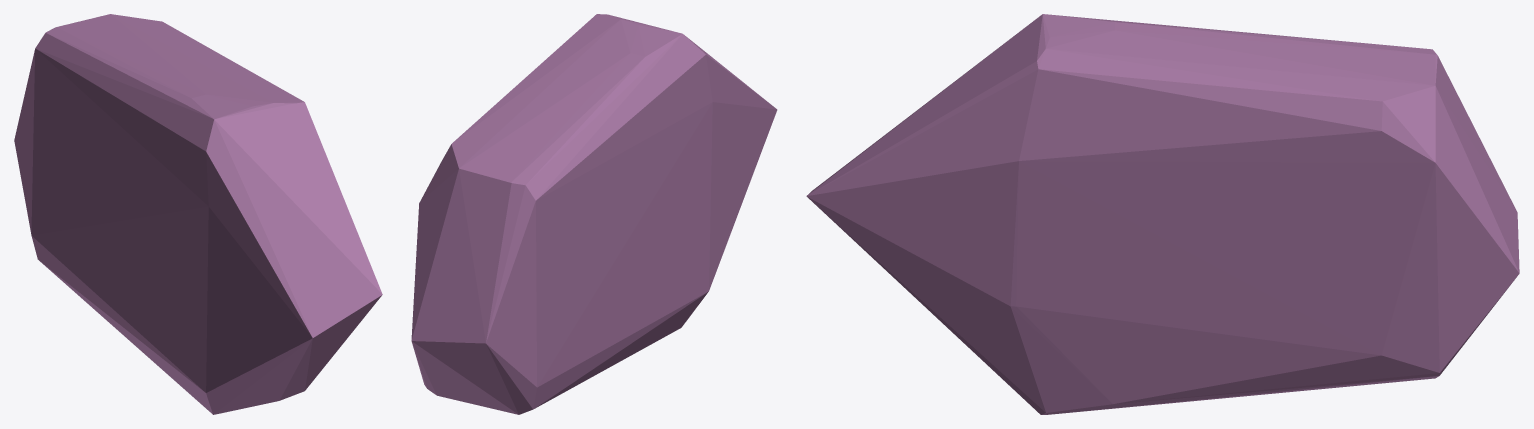
The model's file is food_beverage_whiskyBottle_a01.glb.
3 renders of one model, left to right at view 1: azimuth 30°, elevation 25°; view 2: azimuth 150°, elevation 25°; view 3: azimuth 270°, elevation 25°, orthographic. The views are drawn at different scales.
Parts seen in each view (by area): view 1: geometry_0; view 2: geometry_0; view 3: geometry_0.
Part boxes in pixels (bbox=[...]): geometry_0: bbox=[14, 14, 382, 414]; geometry_0: bbox=[411, 14, 777, 414]; geometry_0: bbox=[806, 14, 1519, 414].
Bounding box in the file's own units: 0.1107 × 0.2626 × 0.4794.
